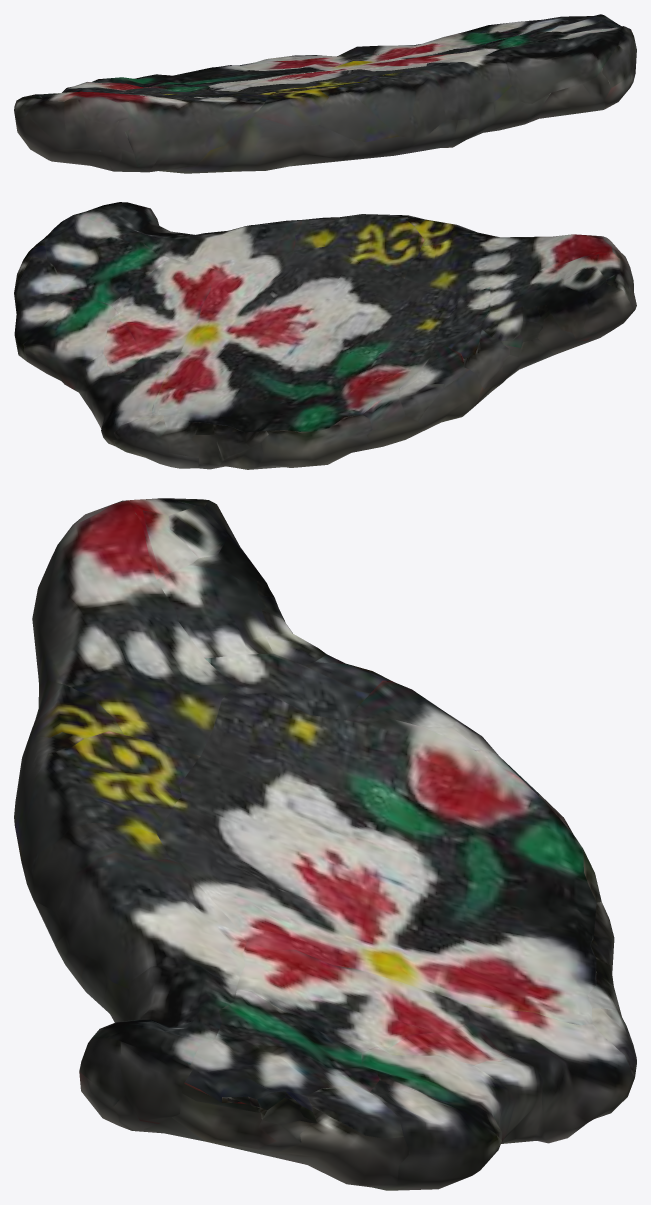
Rendered from hall.glb.
The picture shows the model from 3 angles, top to bottom: view 1: azimuth 30°, elevation 25°; view 2: azimuth 150°, elevation 25°; view 3: azimuth 270°, elevation 25°; orthographic projection. The views are drawn at different scales.
Size of the model in its own units: 0.6276 by 0.1968 by 0.3418.
Materials: 1 (1 with a texture image).
